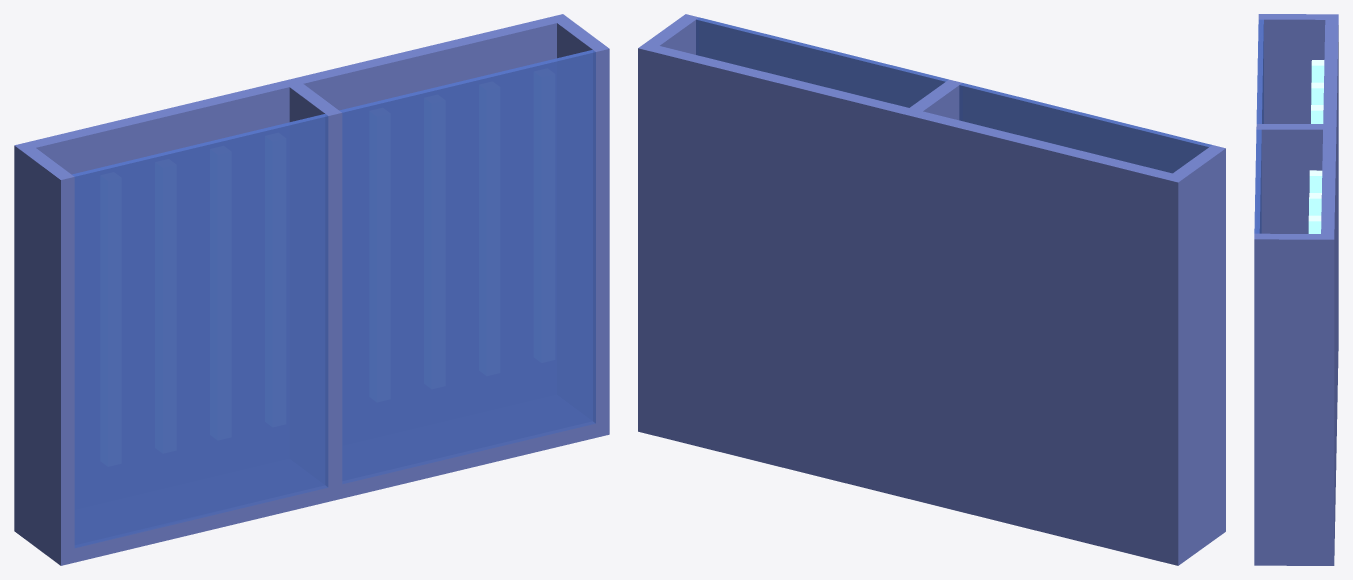
File: neon_wall_blue.glb
The picture shows the model from 3 angles, left to right: view 1: azimuth 30°, elevation 25°; view 2: azimuth 150°, elevation 25°; view 3: azimuth 270°, elevation 25°; orthographic projection. The views are drawn at different scales.
Visible parts, largest first — view 1: glass left, glass right, wall structure; view 2: wall structure, glass left, glass right; view 3: wall structure, neon, glass right, glass left.
Boxes of the visible parts, x1=… form: glass left: x1=72, y1=114, x2=328, y2=548; glass right: x1=339, y1=50, x2=595, y2=484; wall structure: x1=14, y1=14, x2=609, y2=565; wall structure: x1=638, y1=14, x2=1225, y2=565; glass left: x1=959, y1=83, x2=1211, y2=173; glass right: x1=696, y1=17, x2=948, y2=107; wall structure: x1=1254, y1=14, x2=1338, y2=565; neon: x1=1308, y1=60, x2=1324, y2=233; glass right: x1=1254, y1=129, x2=1261, y2=233; glass left: x1=1256, y1=19, x2=1263, y2=123.
Size of the model in its own units: 4 by 2.7 by 0.6331.
